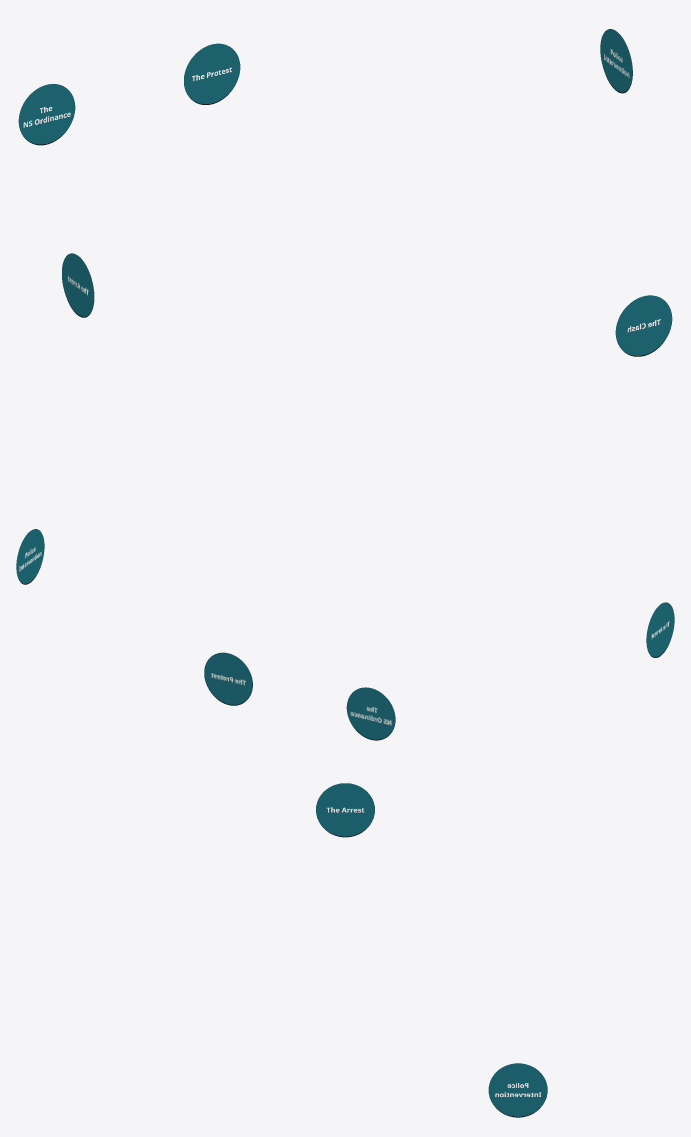
File: RNLHbwH+OZ0XMR2S.gltf
3 views of the same model, one above another, from view 1: azimuth 30°, elevation 25°; view 2: azimuth 150°, elevation 25°; view 3: azimuth 270°, elevation 25° (orthographic). The views are drawn at different scales.
Visible parts, largest first — view 1: button_3, button_5, button_2, button_4, button_1; view 2: button_2, button_3, button_1, button_4; view 3: button_4, button_1.
Boxes of the visible parts, x1=… form: button_3: x1=184, y1=43, x2=240, y2=104; button_5: x1=615, y1=295, x2=672, y2=356; button_2: x1=18, y1=84, x2=75, y2=145; button_4: x1=600, y1=29, x2=632, y2=93; button_1: x1=62, y1=253, x2=94, y2=317; button_2: x1=346, y1=687, x2=395, y2=740; button_3: x1=204, y1=652, x2=252, y2=705; button_1: x1=646, y1=602, x2=674, y2=657; button_4: x1=16, y1=529, x2=44, y2=584; button_4: x1=488, y1=1063, x2=547, y2=1117; button_1: x1=316, y1=783, x2=374, y2=837.
Size of the model in its own units: 0.96 by 0.1 by 0.96.
5 materials, 5 textured.
